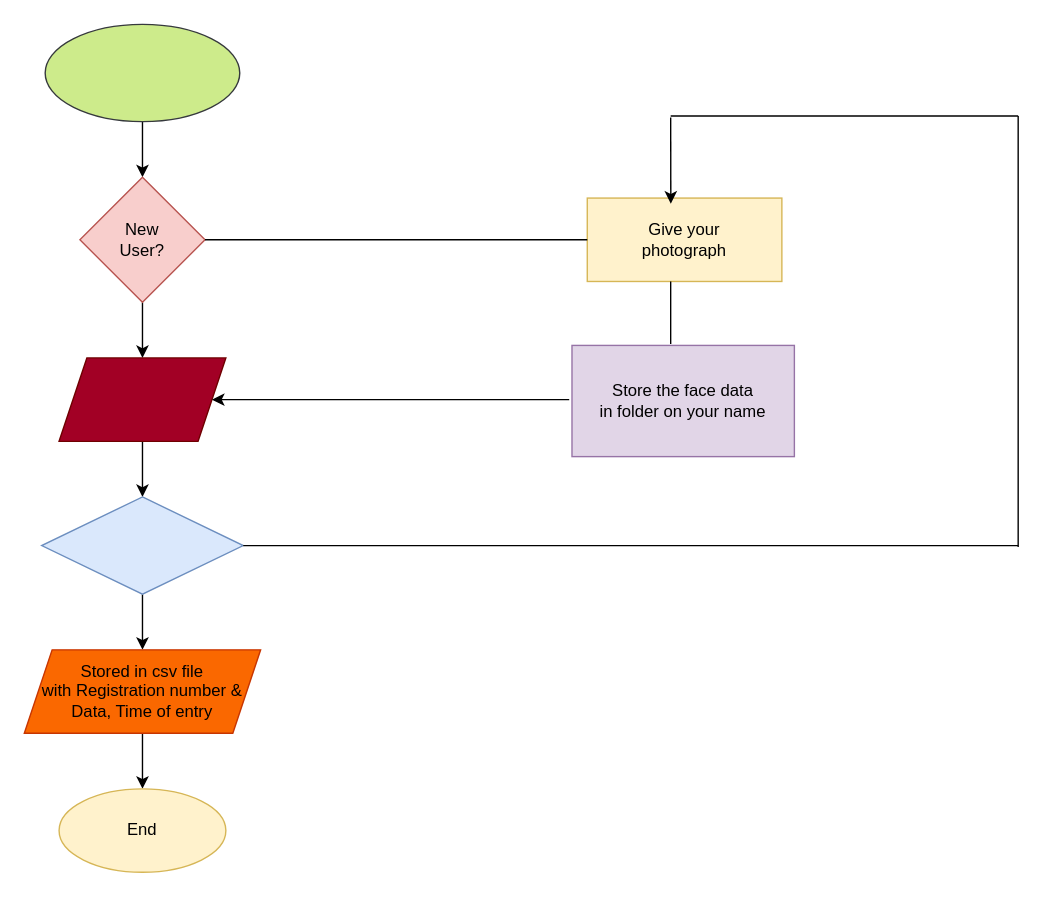
Some shapes in this 1044 by 897 pixel diagram are drawn without their labels. The centre of each missing label's shape, as x and y in pixels:
Face Recoginzed: [141,545]
Recognize the face: [142,399]
Start: [142,72]
